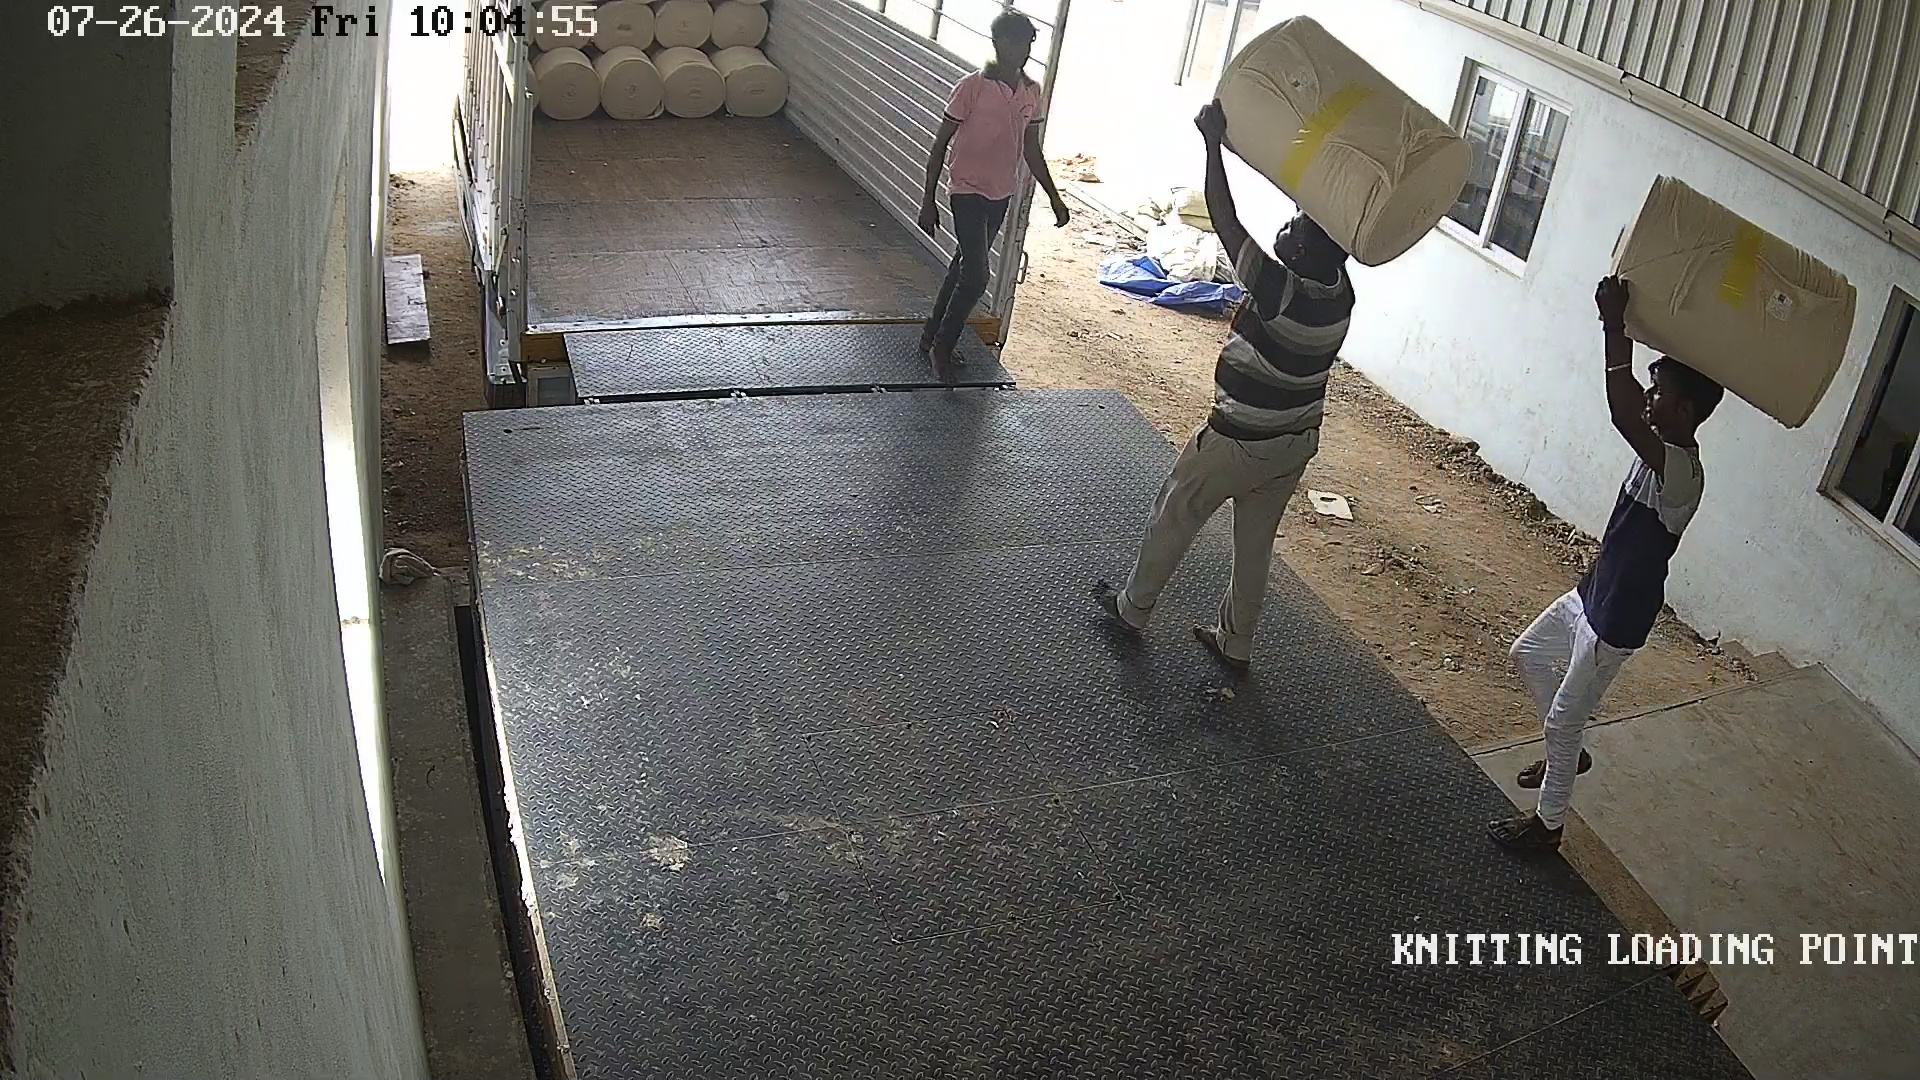bag: (1193, 11, 1486, 276)
